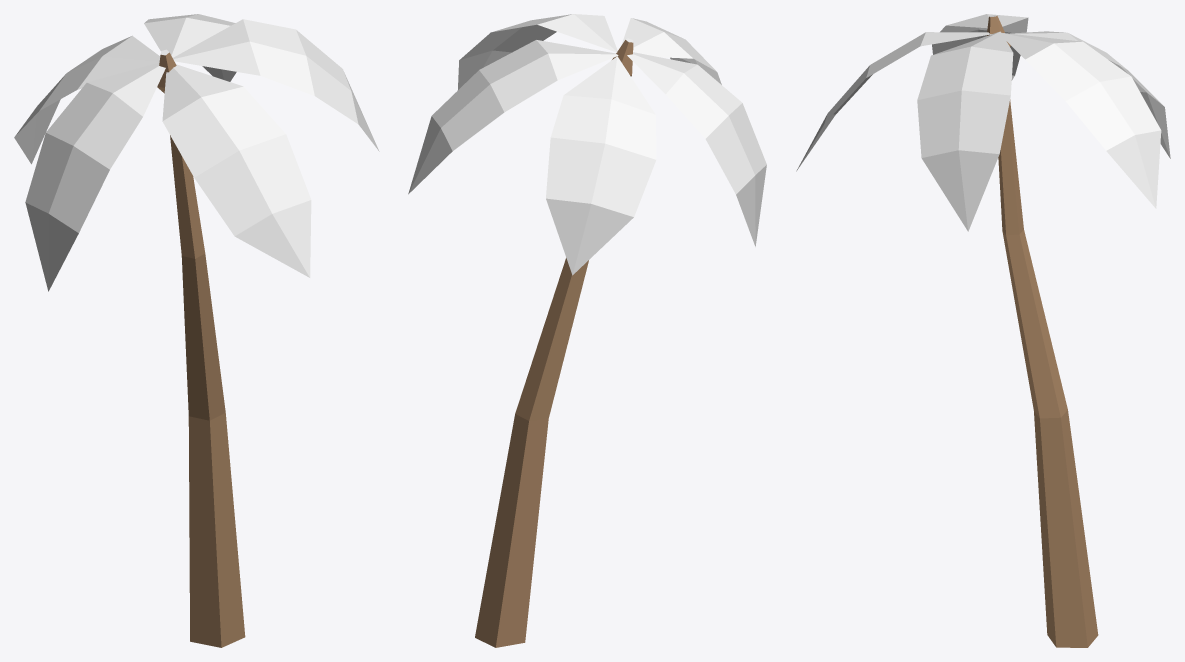
File: Palm_Tree_OneSided_s_Snow_06.fbx
The picture shows the model from 3 angles, left to right: view 1: azimuth 30°, elevation 25°; view 2: azimuth 150°, elevation 25°; view 3: azimuth 270°, elevation 25°; orthographic projection. The views are drawn at different scales.
Parts seen in each view (by area): view 1: Palm_Tree_OneSided_s_Snow_06; view 2: Palm_Tree_OneSided_s_Snow_06; view 3: Palm_Tree_OneSided_s_Snow_06.
Part boxes in pixels (x1=…): Palm_Tree_OneSided_s_Snow_06: x1=14, y1=14, x2=379, y2=647; Palm_Tree_OneSided_s_Snow_06: x1=408, y1=14, x2=766, y2=647; Palm_Tree_OneSided_s_Snow_06: x1=796, y1=14, x2=1170, y2=647.
Bounding box in the file's own units: 211 × 393 × 229.
